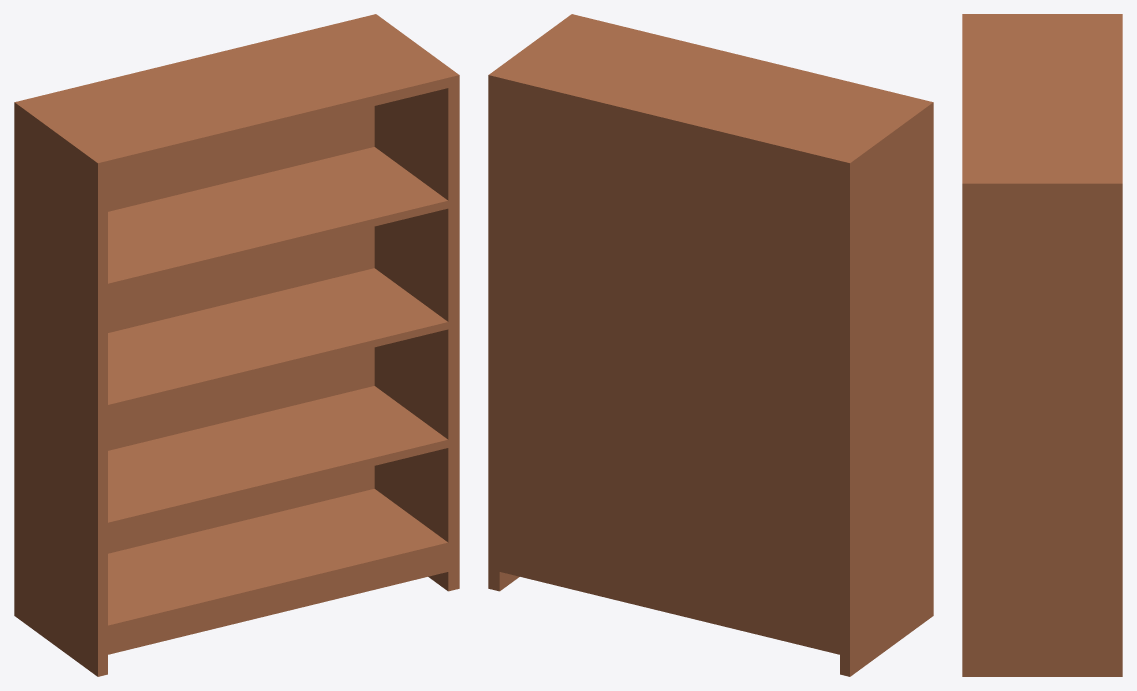
File: lemari rak.fbx
3 views of the same model, side by side, from view 1: azimuth 30°, elevation 25°; view 2: azimuth 150°, elevation 25°; view 3: azimuth 270°, elevation 25° (orthographic). The views are drawn at different scales.
Parts seen in each view (by area): view 1: Cube; view 2: Cube; view 3: Cube.
Part boxes in pixels (x1,y1,x2,y2): Cube: (14,14,459,676); Cube: (488,14,933,676); Cube: (962,14,1122,676).
Size of the model in its own units: 328 by 446 by 131.
